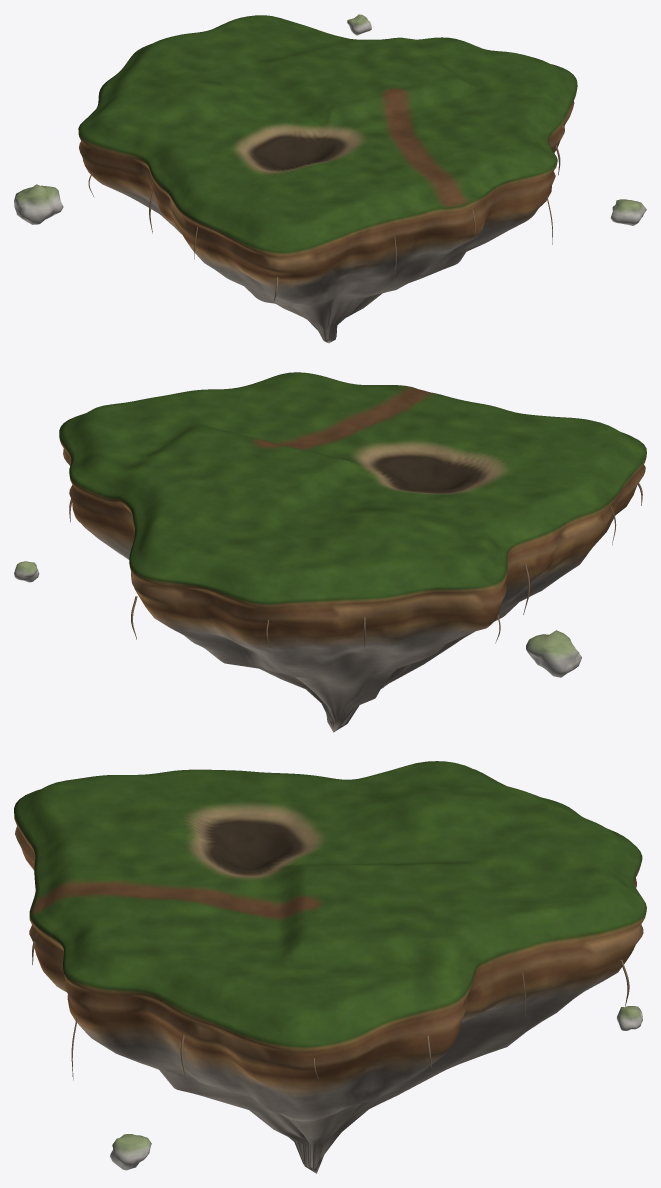
The model's file is island.glb.
3 views of the same model, one above another, from view 1: azimuth 30°, elevation 25°; view 2: azimuth 150°, elevation 25°; view 3: azimuth 270°, elevation 25° (orthographic). The views are drawn at different scales.
Visible parts, largest first — view 1: island, floaters; view 2: island, floaters; view 3: island, floaters.
Part boxes in pixels (x1=…): island: x1=78, y1=15, x2=577, y2=343; floaters: x1=14, y1=14, x2=646, y2=225; island: x1=59, y1=372, x2=646, y2=732; floaters: x1=14, y1=561, x2=581, y2=677; island: x1=14, y1=761, x2=646, y2=1173; floaters: x1=110, y1=1006, x2=642, y2=1170.
Bounding box in the file's own units: 18.09 × 8.31 × 15.06.
2 materials, 2 textured.
